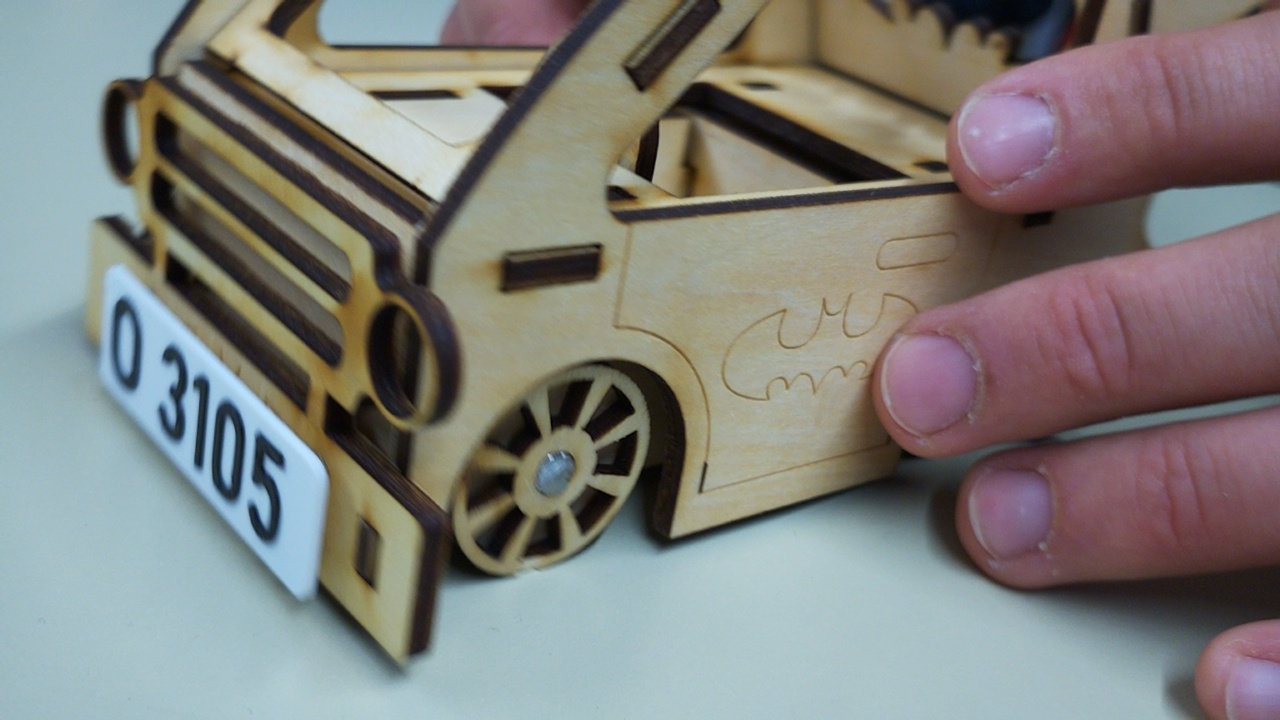license_plate: (94, 259, 332, 605)
